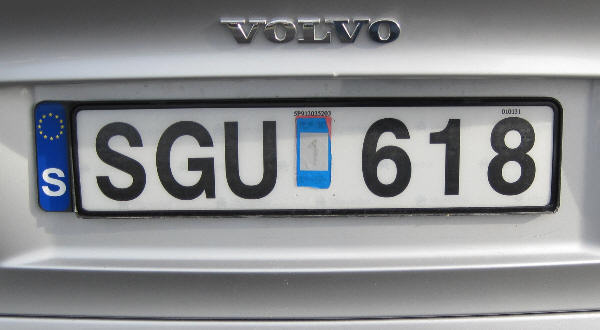license_plate: (73, 106, 555, 210)
